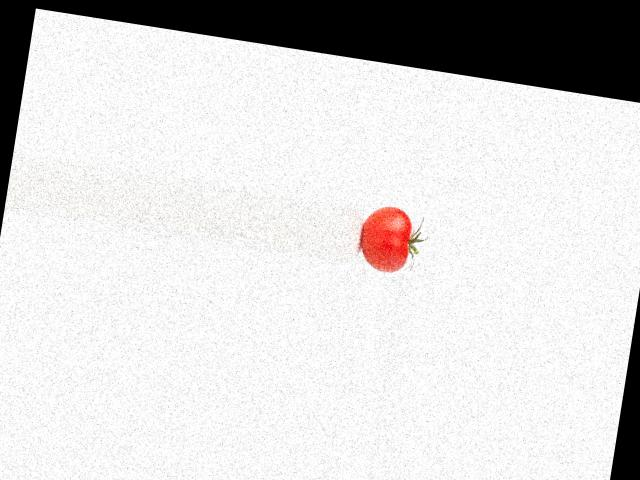tomato: (357, 202, 415, 274)
